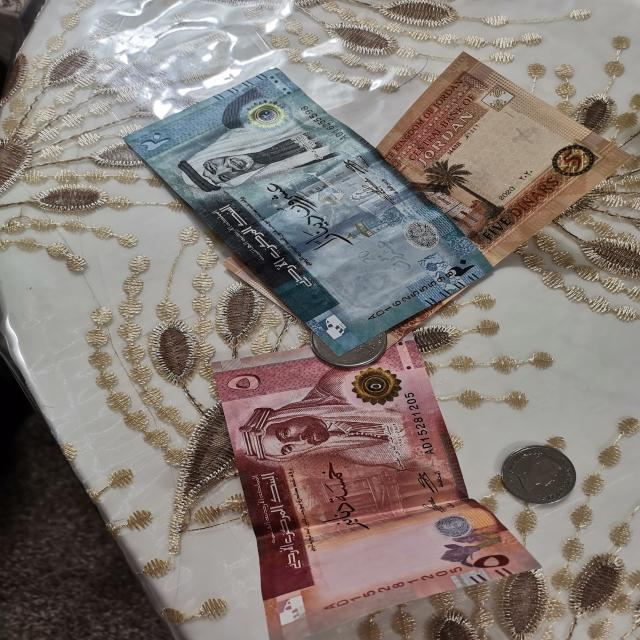10-coins: (307, 311, 391, 369)
20-dinar: (117, 66, 512, 357)
5-coins: (490, 441, 580, 508)
5-dinar: (210, 330, 544, 640), (375, 51, 635, 268)
